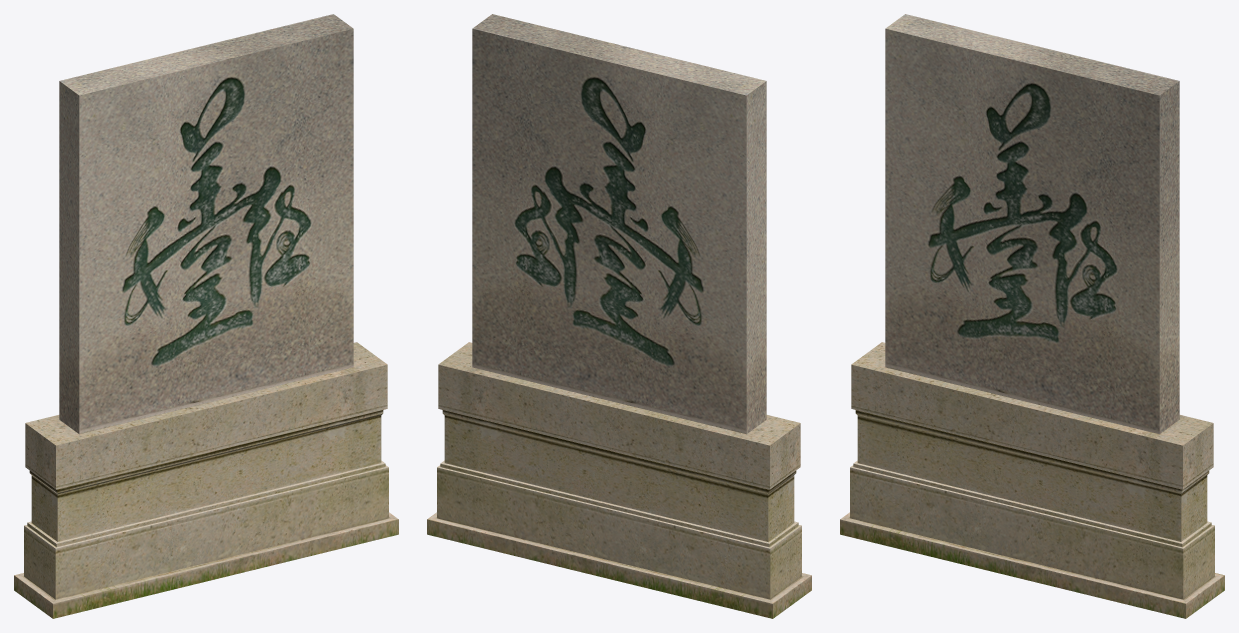
Rendered from Prop_RuomuRock4.FBX.
The picture shows the model from 3 angles, left to right: view 1: azimuth 30°, elevation 25°; view 2: azimuth 150°, elevation 25°; view 3: azimuth 330°, elevation 25°; orthographic projection.
Visible parts, largest first — view 1: Prop_RuomuRock4; view 2: Prop_RuomuRock4; view 3: Prop_RuomuRock4.
Boxes of the visible parts, box(x1,y1,x2,y2) form: Prop_RuomuRock4: box(14, 14, 398, 618); Prop_RuomuRock4: box(427, 14, 811, 618); Prop_RuomuRock4: box(840, 14, 1224, 618).
Size of the model in its own units: 128 by 24.9 by 179.
